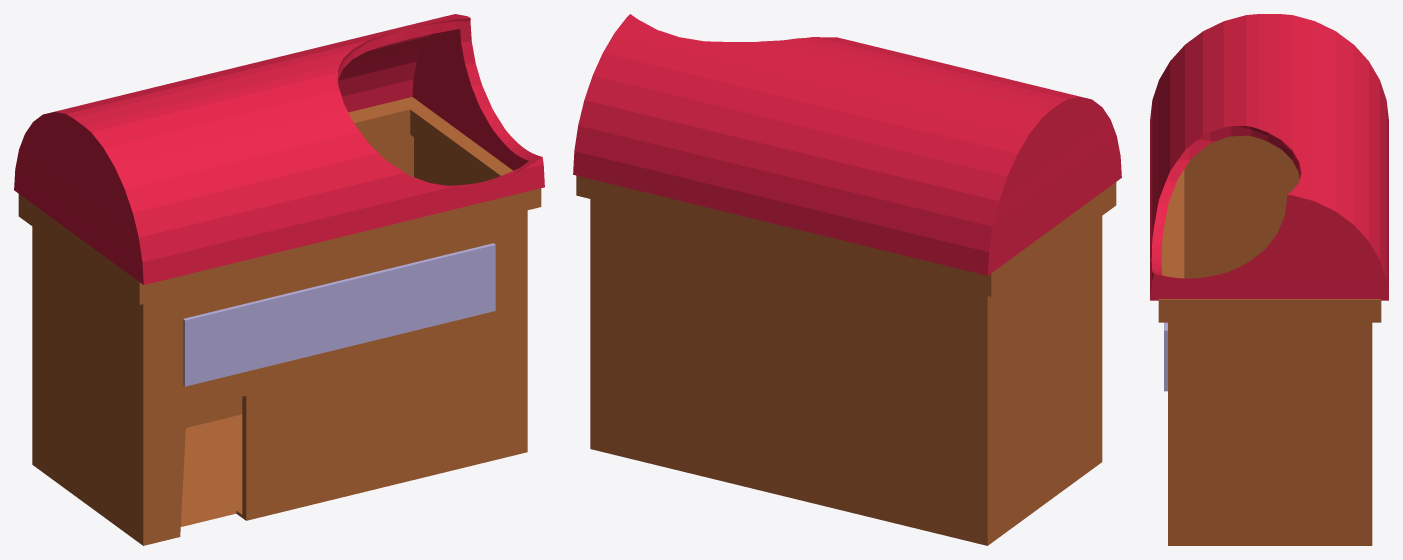
File: ruinned_store.fbx
The picture shows the model from 3 angles, left to right: view 1: azimuth 30°, elevation 25°; view 2: azimuth 150°, elevation 25°; view 3: azimuth 270°, elevation 25°; orthographic projection. The views are drawn at different scales.
Parts seen in each view (by area): view 1: Building Body, Roof, Sign; view 2: Building Body, Roof; view 3: Building Body, Roof.
Boxes of the visible parts, x1=… form: Building Body: x1=18, y1=97, x2=541, y2=545; Roof: x1=14, y1=14, x2=544, y2=284; Sign: x1=183, y1=243, x2=495, y2=386; Building Body: x1=576, y1=175, x2=1116, y2=545; Roof: x1=573, y1=14, x2=1121, y2=275; Building Body: x1=1158, y1=135, x2=1381, y2=545; Roof: x1=1150, y1=14, x2=1388, y2=300.
Size of the model in its own units: 419 by 383 by 234.
